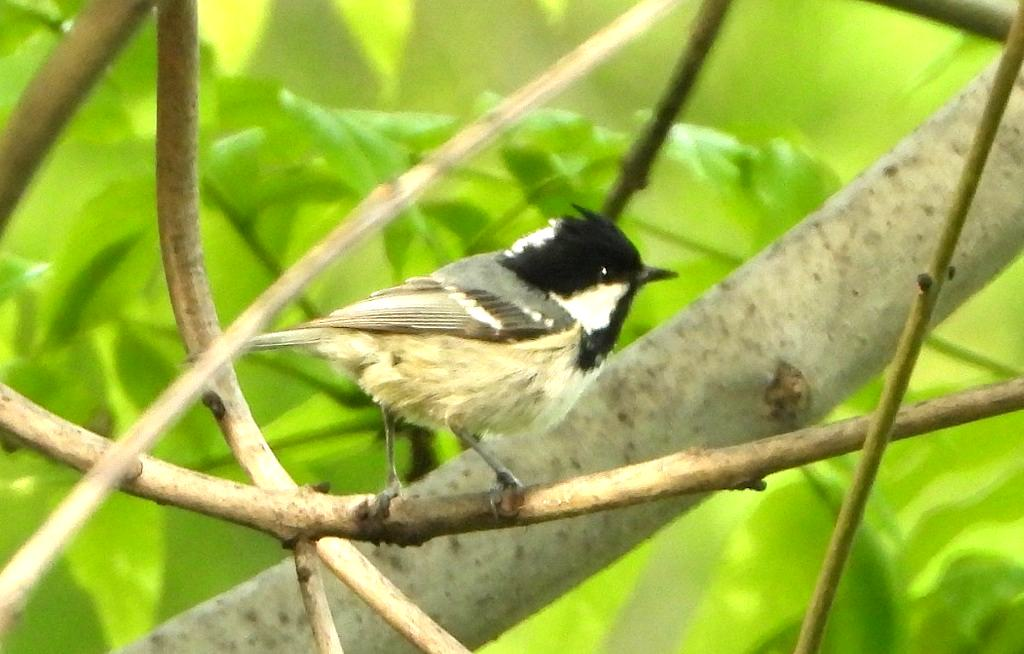PeriparusAter: (179, 201, 680, 521)
